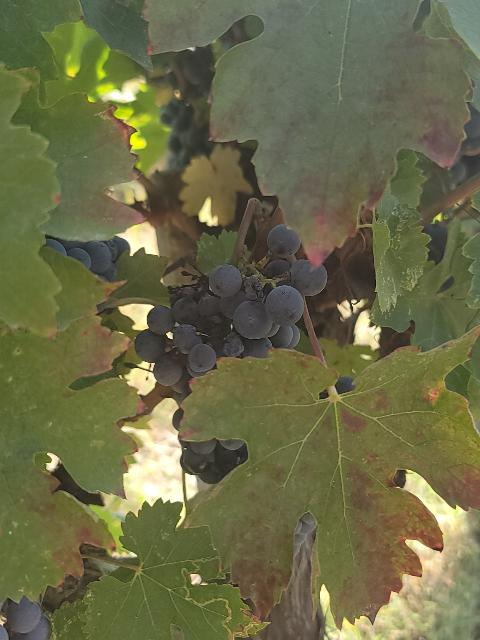grapes: (139, 225, 328, 400), (181, 440, 248, 481)
